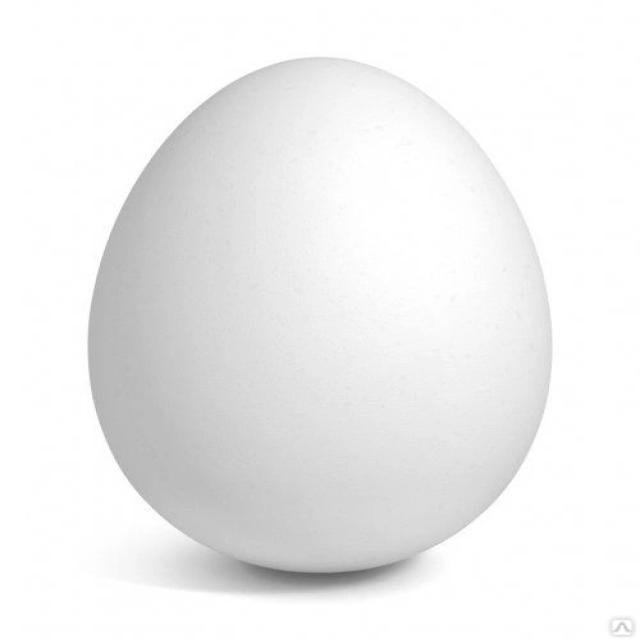egg: (82, 53, 561, 590)
